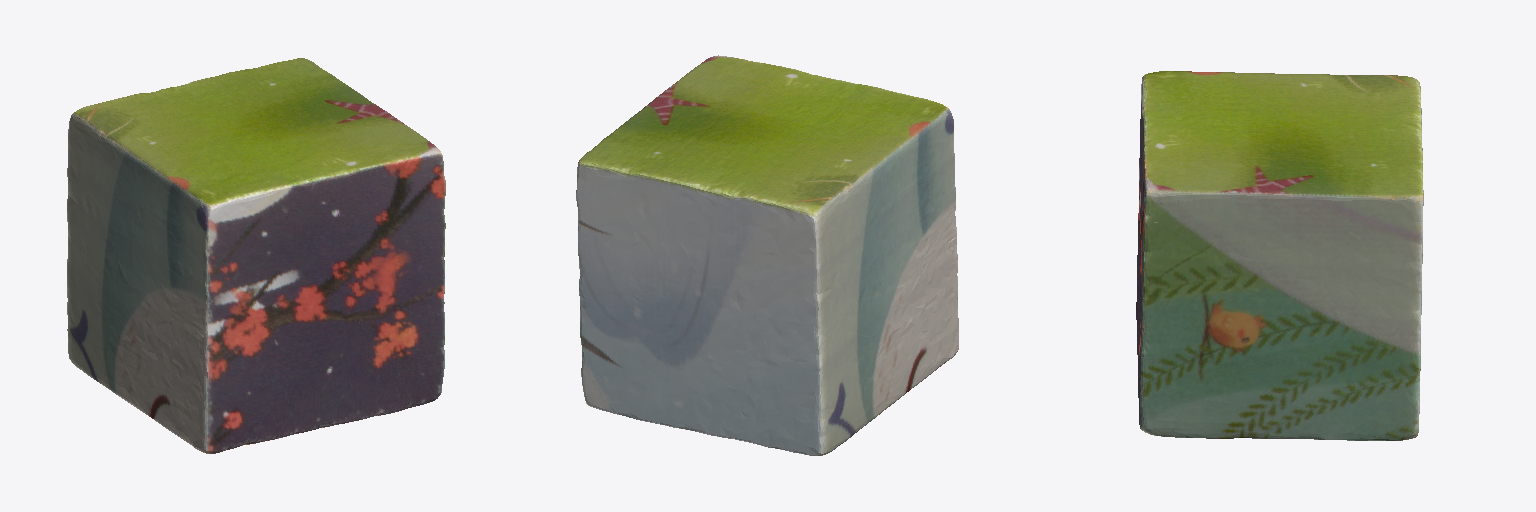
The picture shows the model from 3 angles: view 1: azimuth 30°, elevation 25°; view 2: azimuth 150°, elevation 25°; view 3: azimuth 270°, elevation 25°; orthographic projection.
Parts seen in each view (by area): view 1: default; view 2: default; view 3: default.
Part boxes in pixels (x1,y1,x2,y2): default: (67,58,445,453); default: (576,55,958,455); default: (1136,71,1423,440).
Size of the model in its own units: 34.51 by 34.81 by 34.82.
1 materials, 1 textured.